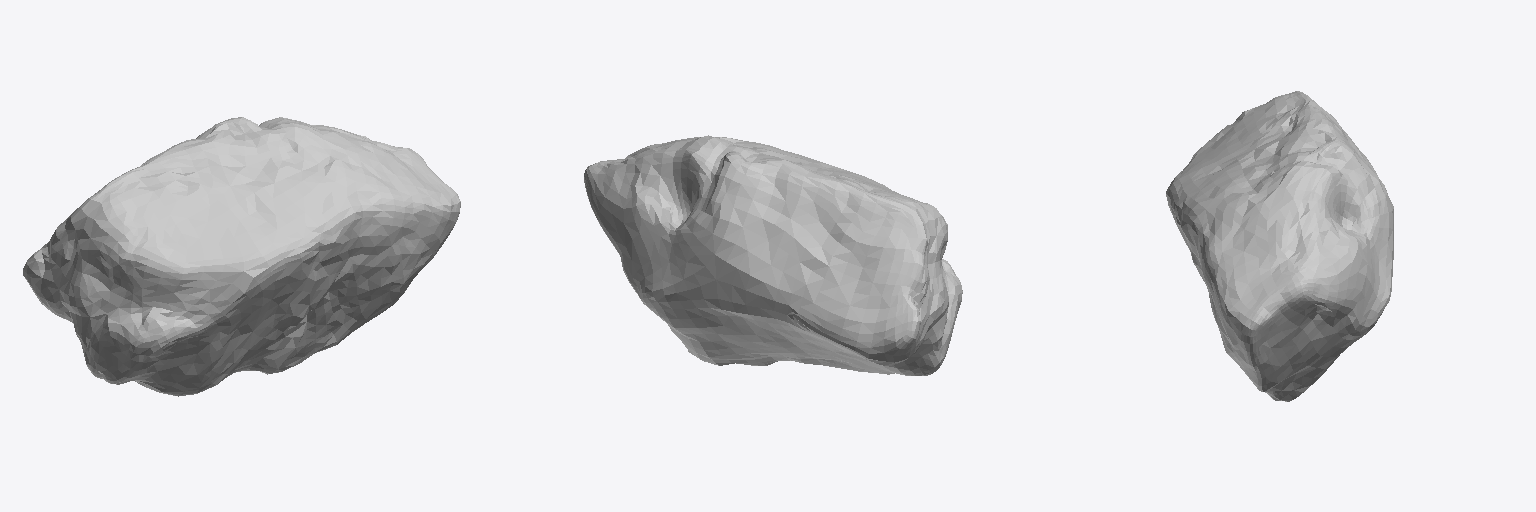
The model's file is Stone.obj.
The picture shows the model from 3 angles: view 1: azimuth 30°, elevation 25°; view 2: azimuth 150°, elevation 25°; view 3: azimuth 270°, elevation 25°; orthographic projection.
Visible parts, largest first — view 1: Group1; view 2: Group1; view 3: Group1.
Boxes of the visible parts, box(x1,y1,x2,y2) form: Group1: box(23, 117, 460, 396); Group1: box(584, 135, 962, 375); Group1: box(1166, 91, 1393, 401).
Size of the model in its own units: 9.63 by 5.66 by 5.02.